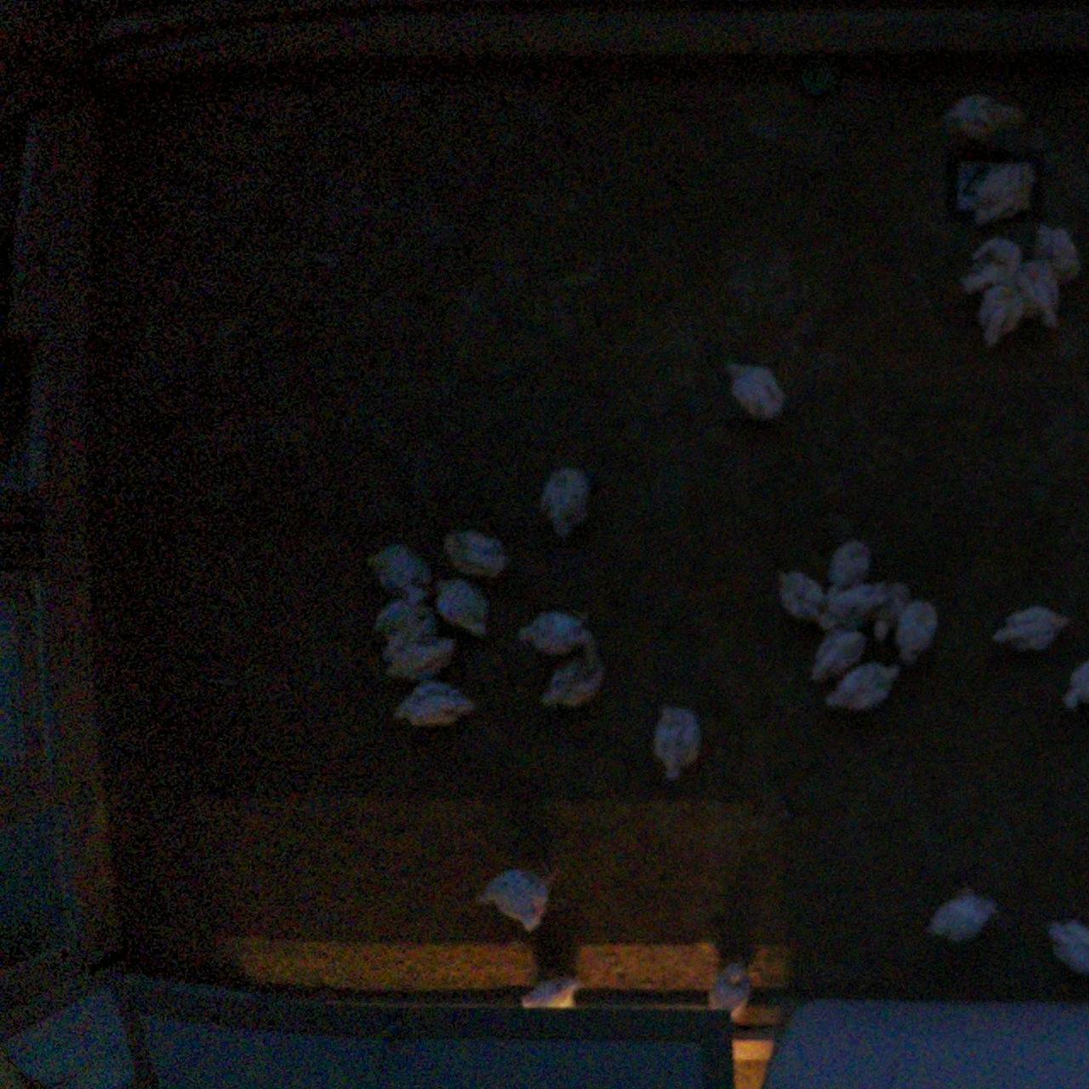chicken: (458, 852, 569, 935), (970, 154, 1046, 235), (531, 458, 598, 543), (717, 355, 795, 424), (537, 636, 611, 706), (925, 874, 1004, 939), (988, 594, 1069, 657), (391, 677, 482, 733), (366, 536, 437, 606), (823, 656, 907, 715), (647, 701, 706, 784), (428, 570, 496, 642), (936, 83, 1024, 138), (958, 231, 1027, 299), (434, 525, 513, 584), (365, 592, 435, 658), (973, 278, 1029, 356), (506, 604, 590, 655), (1016, 255, 1071, 328), (768, 564, 837, 621), (381, 634, 460, 683), (707, 954, 759, 1028), (802, 627, 869, 684), (894, 593, 942, 667), (824, 529, 875, 596), (815, 581, 877, 634), (1042, 906, 1089, 974), (1037, 223, 1088, 281), (517, 968, 583, 1008), (876, 577, 911, 643), (1060, 652, 1089, 715)
